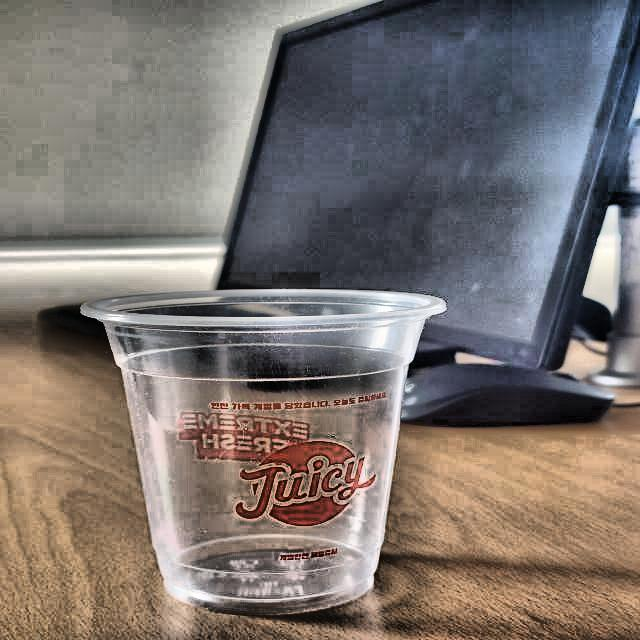plastic cup: (80, 284, 449, 615)
